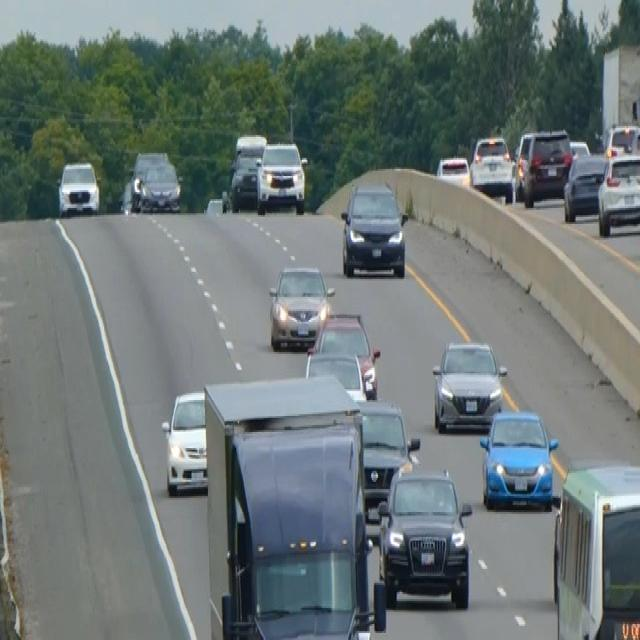bus: (551, 459, 639, 638)
car: (351, 394, 420, 522), (479, 407, 559, 510), (431, 336, 507, 432), (339, 180, 408, 279), (307, 309, 380, 396), (267, 262, 333, 351), (161, 388, 208, 494), (514, 126, 572, 206), (256, 139, 307, 215), (596, 150, 639, 236), (305, 348, 367, 402), (562, 151, 608, 221), (469, 133, 514, 203), (228, 132, 266, 210), (56, 158, 100, 217), (129, 148, 168, 208), (138, 158, 181, 212), (602, 121, 639, 156), (436, 153, 470, 187), (568, 137, 590, 160)
jeep: (376, 460, 473, 610)
lorry: (202, 372, 386, 638)
